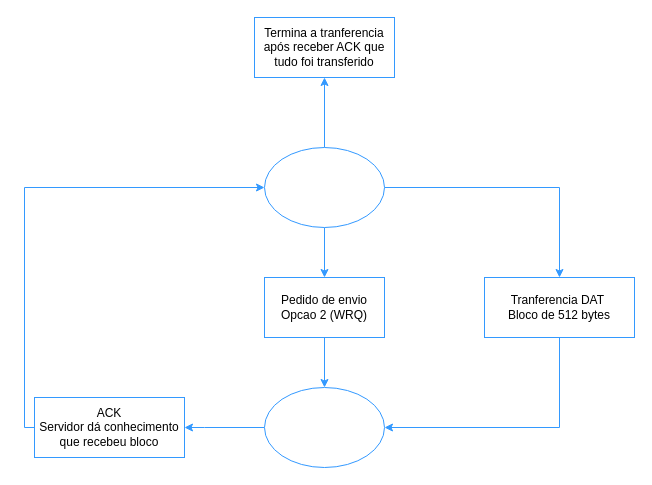
Some shapes in this 652 by 485 pixel diagram are drawn without their labels. Each missing label, with the centre of its shape:
"Cliente" belongs at point (324, 187).
"Servidor" belongs at point (324, 427).
